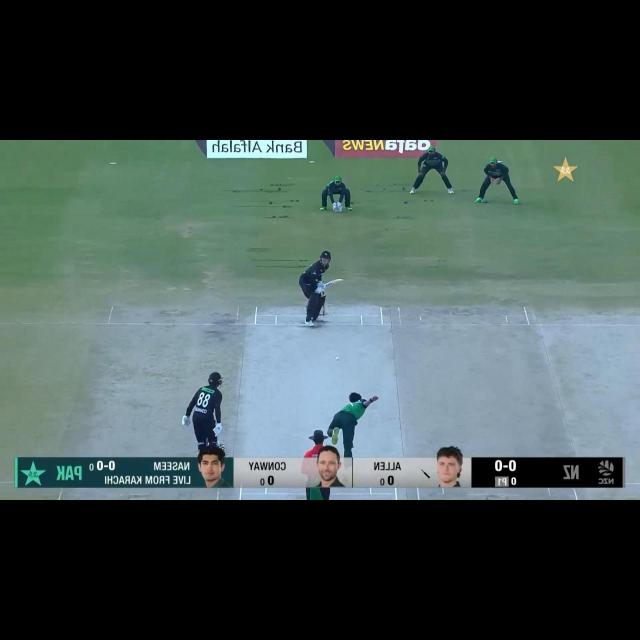bat: (326, 275, 345, 287)
toe: (339, 278, 345, 284)
